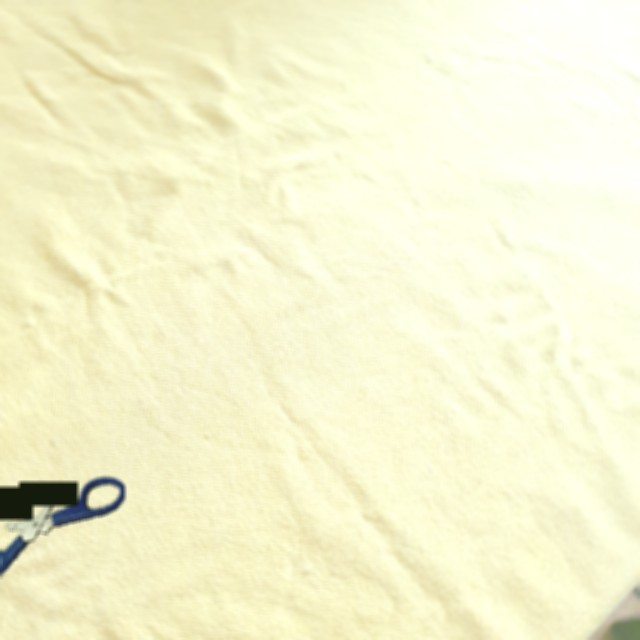scissors: (0, 476, 125, 581)
